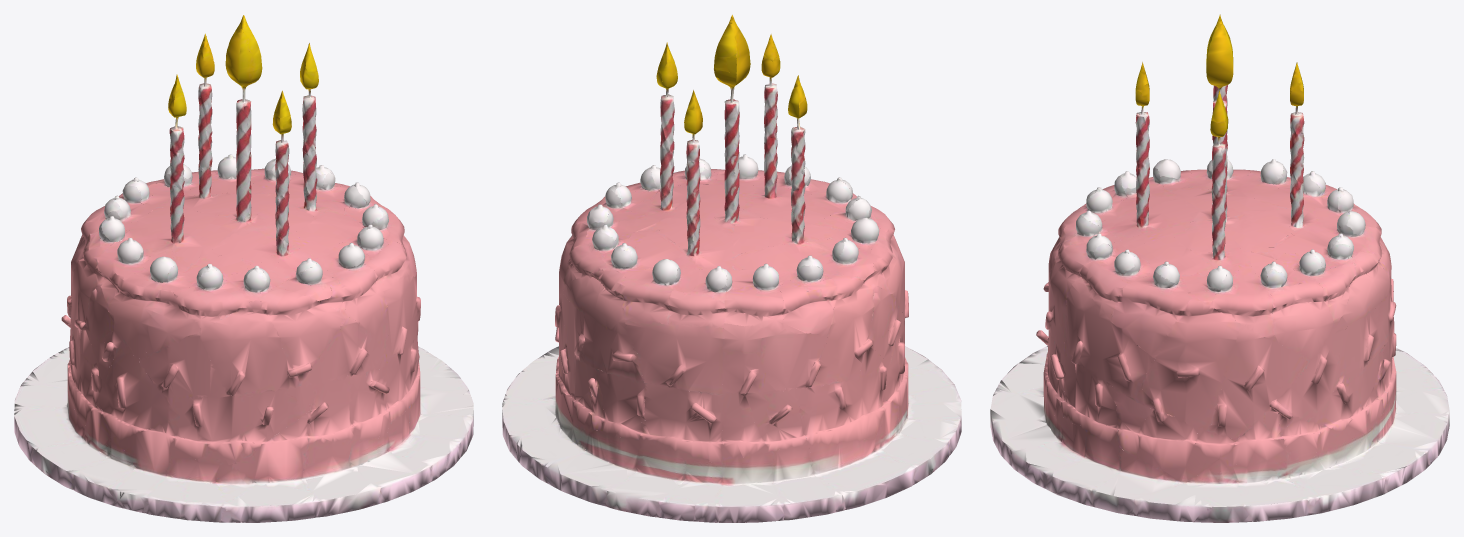
File: cake.glb
3 renders of one model, left to right at view 1: azimuth 30°, elevation 25°; view 2: azimuth 150°, elevation 25°; view 3: azimuth 270°, elevation 25°, orthographic.
Parts seen in each view (by area): view 1: Mesh_0; view 2: Mesh_0; view 3: Mesh_0.
Part boxes in pixels (box(x1,y1,x2,y2)): Mesh_0: box(14, 15, 473, 522); Mesh_0: box(502, 15, 961, 522); Mesh_0: box(990, 14, 1449, 522).
Size of the model in its own units: 1.88 by 1.9 by 1.88.
1 material, 1 textured.
